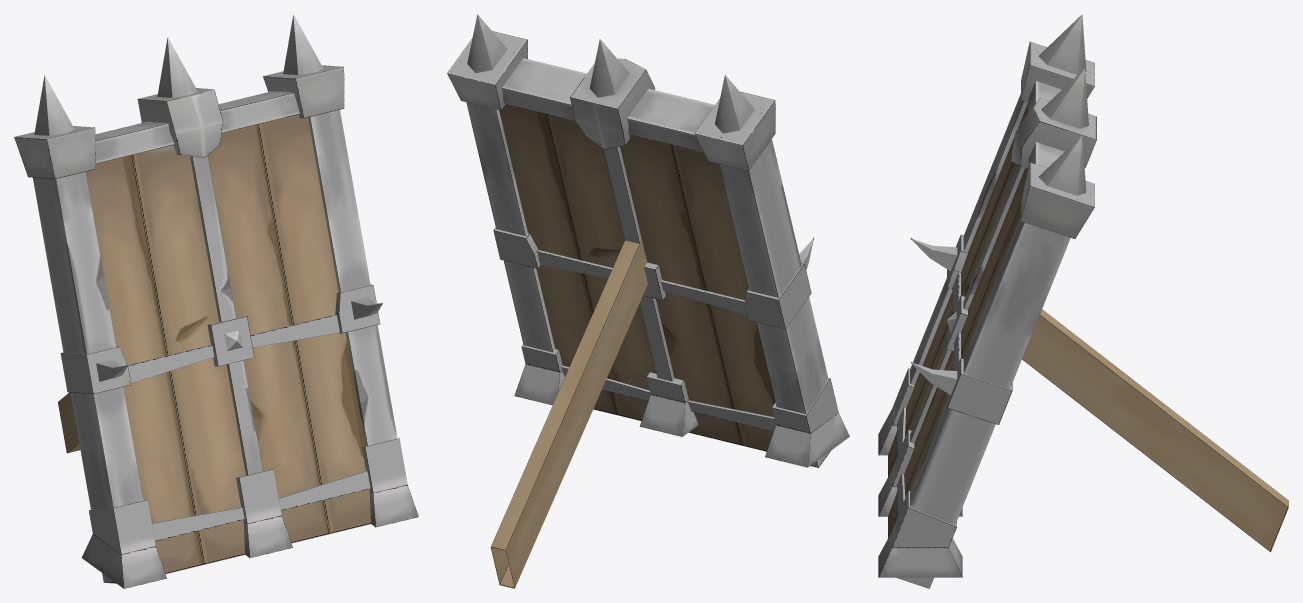
Rendered from fence2.fbx.
3 views of the same model, side by side, from view 1: azimuth 30°, elevation 25°; view 2: azimuth 150°, elevation 25°; view 3: azimuth 270°, elevation 25° (orthographic).
Parts seen in each view (by area): view 1: fence2; view 2: fence2; view 3: fence2.
Boxes of the visible parts, left/top/right/bottom form: fence2: left=14, top=14, right=418, bottom=588; fence2: left=447, top=14, right=849, bottom=588; fence2: left=878, top=14, right=1288, bottom=588.
Bounding box in the file's own units: 99.46 × 154 × 119.
Materials: 1 (1 with a texture image).
